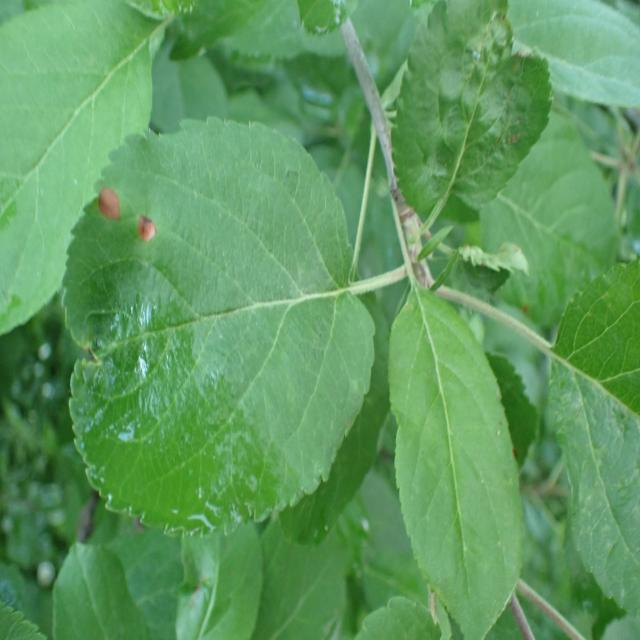Black Rot: (92, 171, 125, 245), (132, 205, 168, 265)
